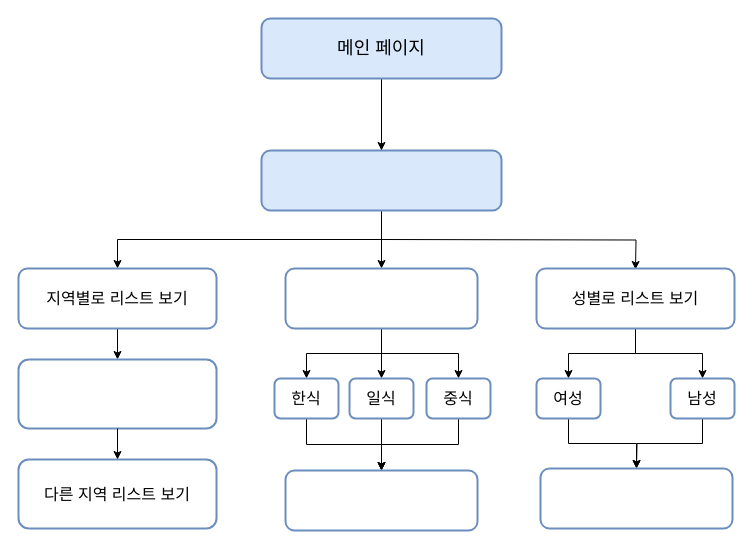
The diagram is 752 pixels wide and 548 high, and some of its shapes have lost their labels. The shapes that lost their labels are listed below. From the top down, each one's centre as x and y in pixels, then its label:
the point at 381,180: 맛집 리스트
the point at 381,298: 업종별로 리스트 보기
the point at 117,393: 다른 지역 리스트 조회
the point at 381,500: 선택한 업종 리스트 보기
the point at 636,498: 선택한 성별 리스트 보기
